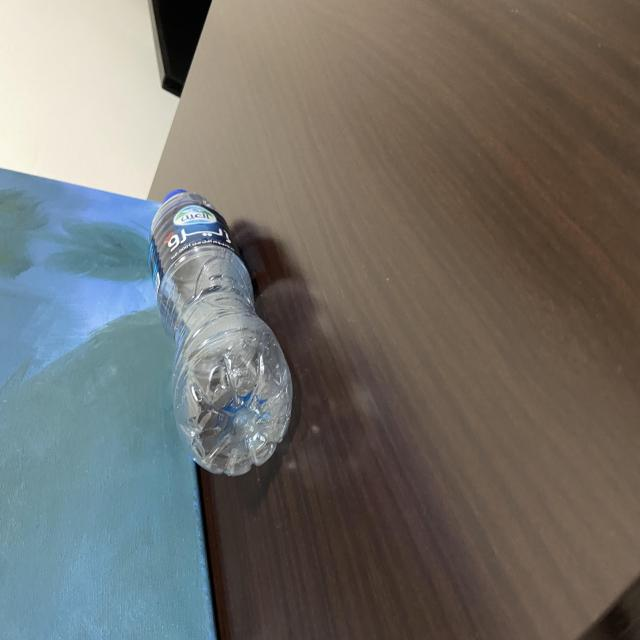plastic: (149, 184, 295, 476)
